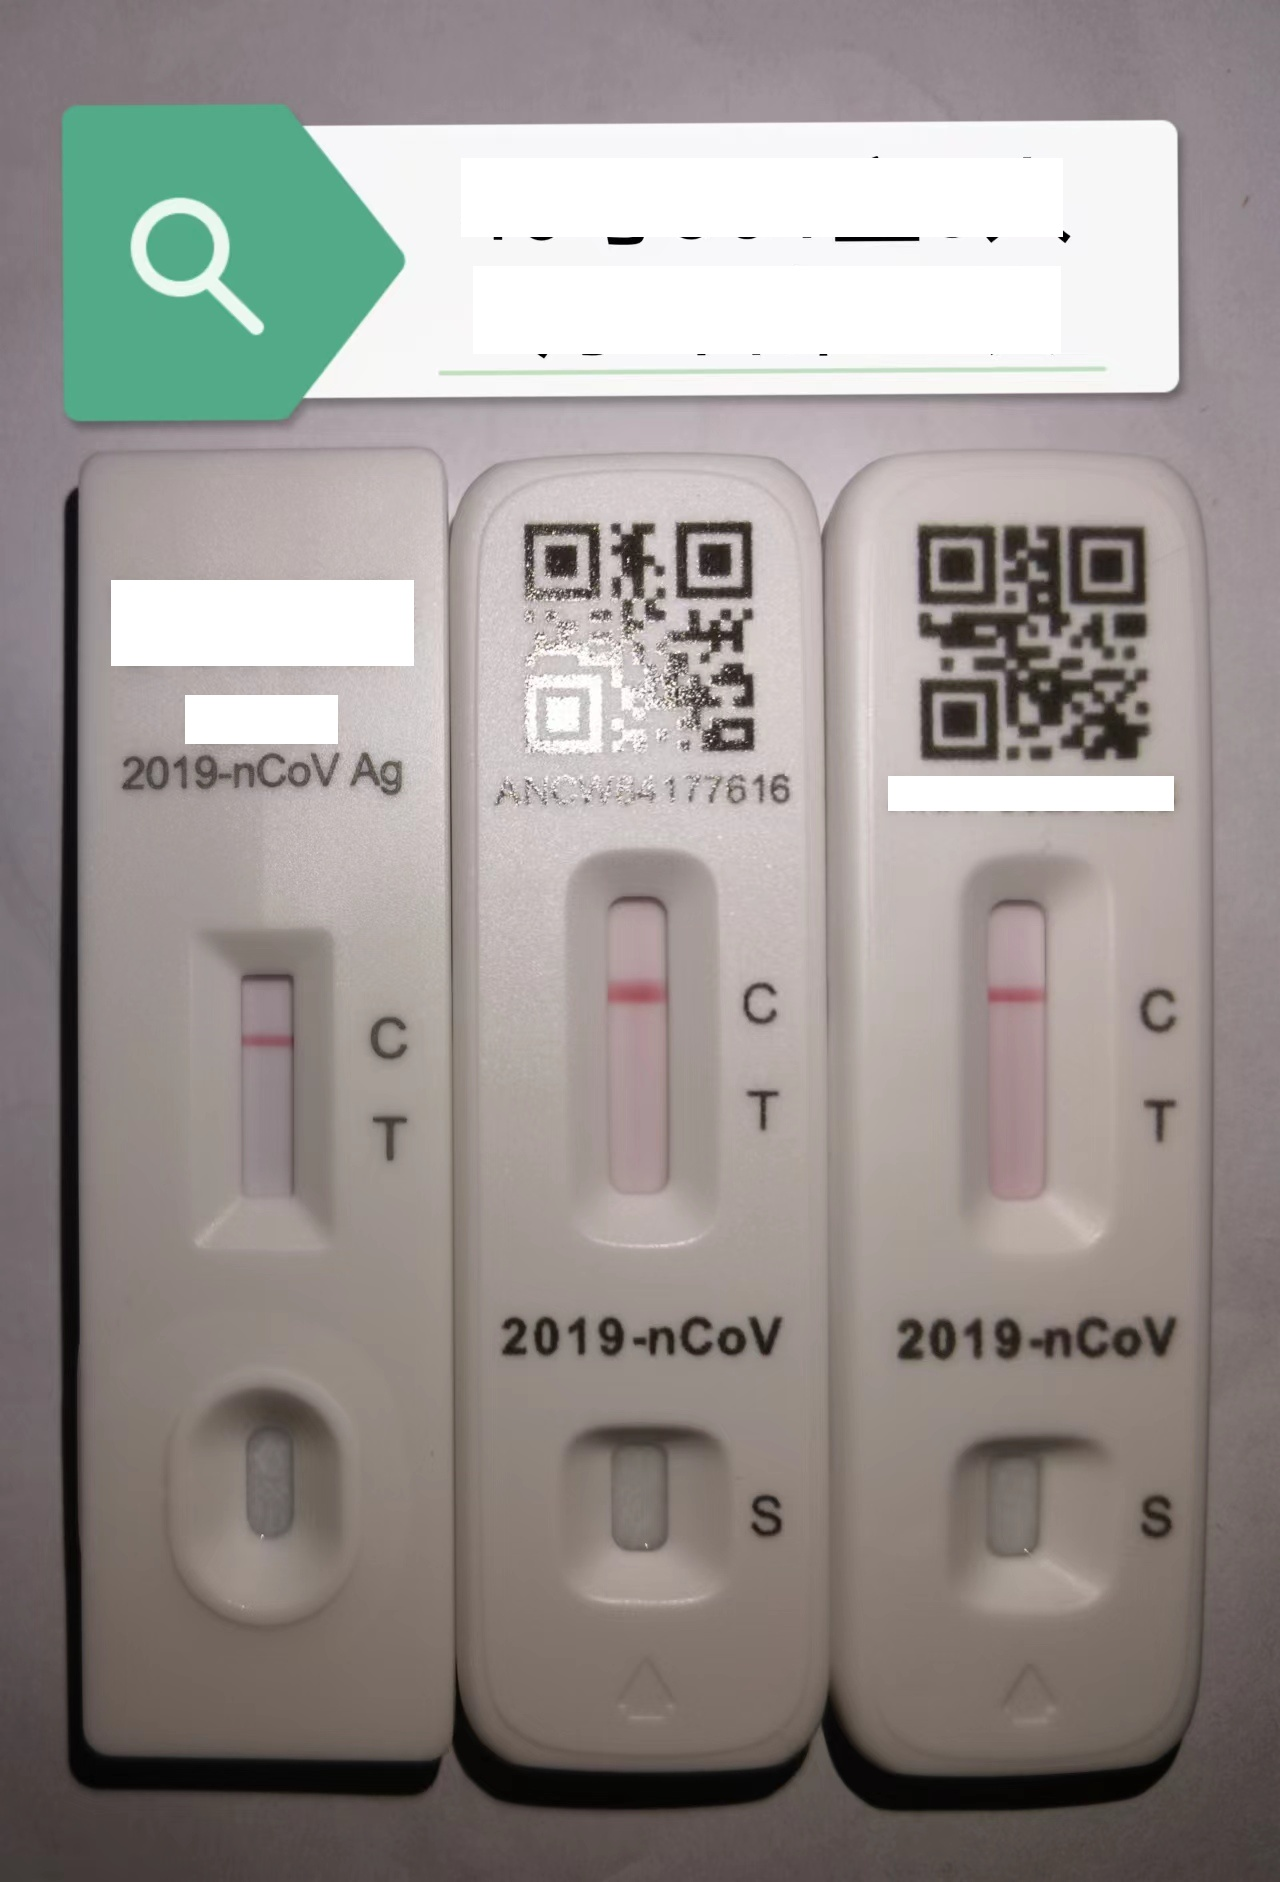negative: (564, 850, 714, 1277), (959, 852, 1099, 1269), (209, 930, 326, 1237)
